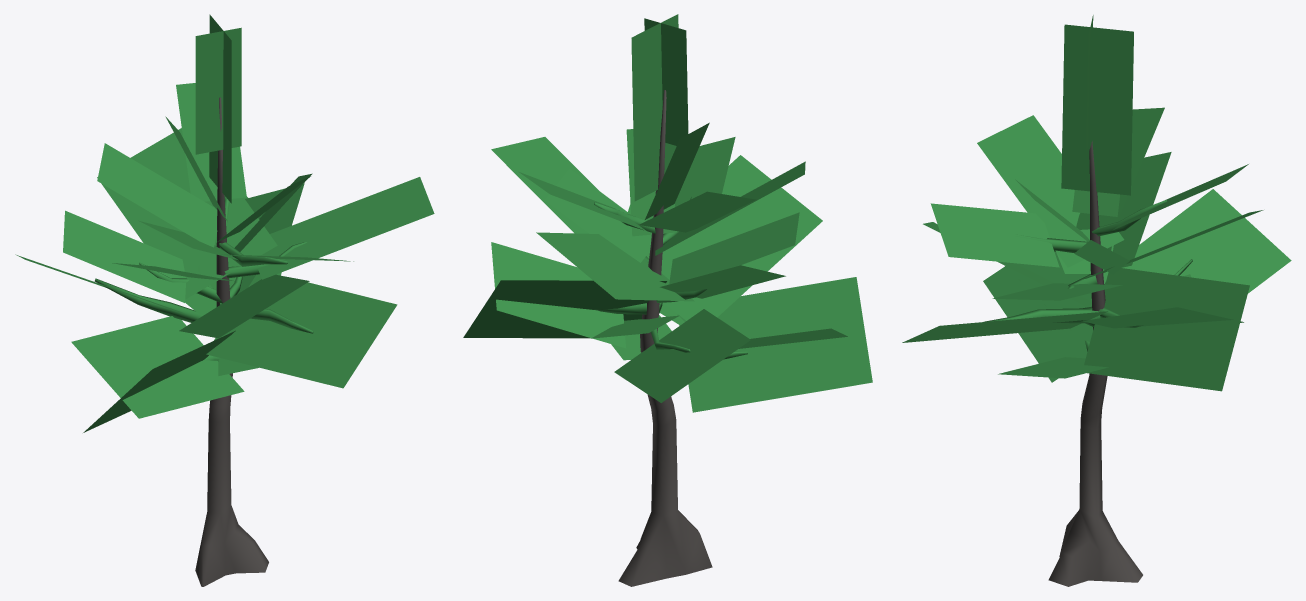
Rendered from mdl_tree.fbx.
3 renders of one model, left to right at view 1: azimuth 30°, elevation 25°; view 2: azimuth 150°, elevation 25°; view 3: azimuth 270°, elevation 25°, orthographic.
Parts seen in each view (by area): view 1: mdl_tree; view 2: mdl_tree; view 3: mdl_tree.
Part boxes in pixels (x1,y1,x2,y2): mdl_tree: (15, 14, 434, 586); mdl_tree: (463, 14, 872, 586); mdl_tree: (902, 15, 1291, 586).
Bounding box in the file's own units: 6.39 × 9.2 × 5.95.
